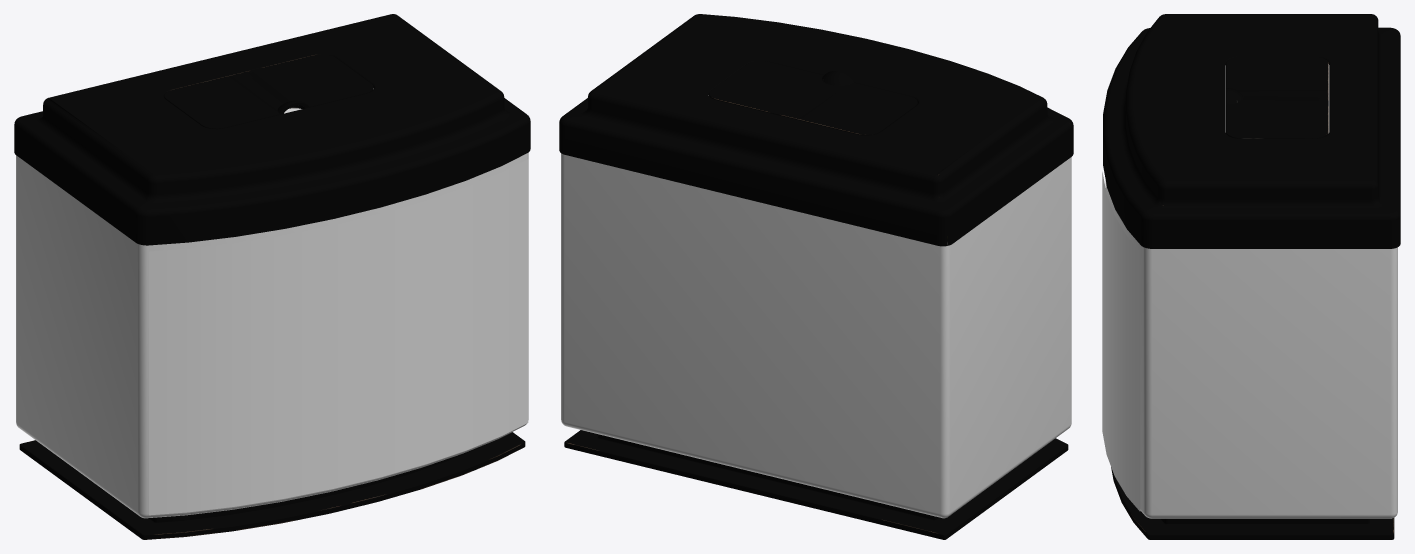
Rendered from squaretank.glb.
The picture shows the model from 3 angles, left to right: view 1: azimuth 30°, elevation 25°; view 2: azimuth 150°, elevation 25°; view 3: azimuth 270°, elevation 25°; orthographic projection.
Parts seen in each view (by area): view 1: game, body, glass; view 2: glass, body; view 3: body, glass, game.
Part boxes in pixels (box(x1,y1,x2,y2)): game: box(149, 159, 528, 515); body: box(14, 14, 530, 539); glass: box(16, 152, 528, 518); glass: box(561, 153, 1071, 518); body: box(559, 14, 1073, 539); body: box(1103, 14, 1400, 539); glass: box(1105, 181, 1397, 518); game: box(1102, 172, 1140, 511).
Bounding box in the file's own units: 0.5545 × 0.4879 × 0.3683.
1 material, 1 textured.
